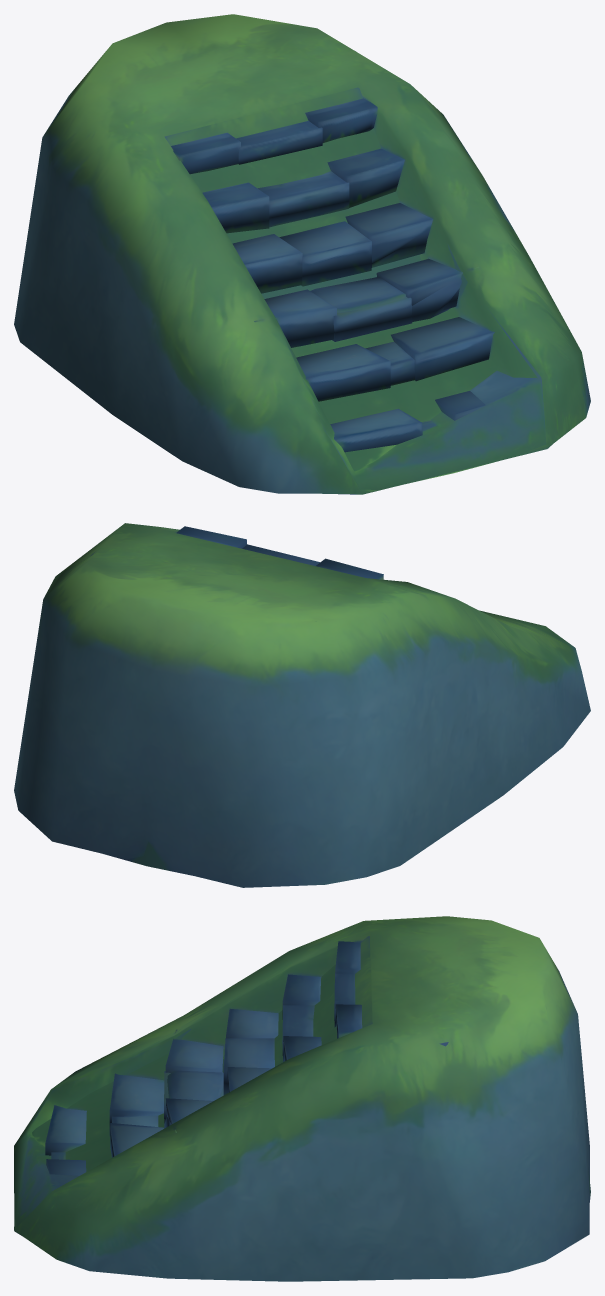
File: Meshy_AI_model_20261128_texture.fbx
3 views of the same model, one above another, from view 1: azimuth 30°, elevation 25°; view 2: azimuth 150°, elevation 25°; view 3: azimuth 270°, elevation 25° (orthographic). The views are drawn at different scales.
Visible parts, largest first — view 1: geometry_0; view 2: geometry_0; view 3: geometry_0.
Boxes of the visible parts, bbox=[...] form: geometry_0: bbox=[14, 14, 590, 494]; geometry_0: bbox=[14, 523, 590, 887]; geometry_0: bbox=[14, 916, 590, 1281].
Bounding box in the file's own units: 73.17 × 43.43 × 99.79.
Materials: 1 (1 with a texture image).
